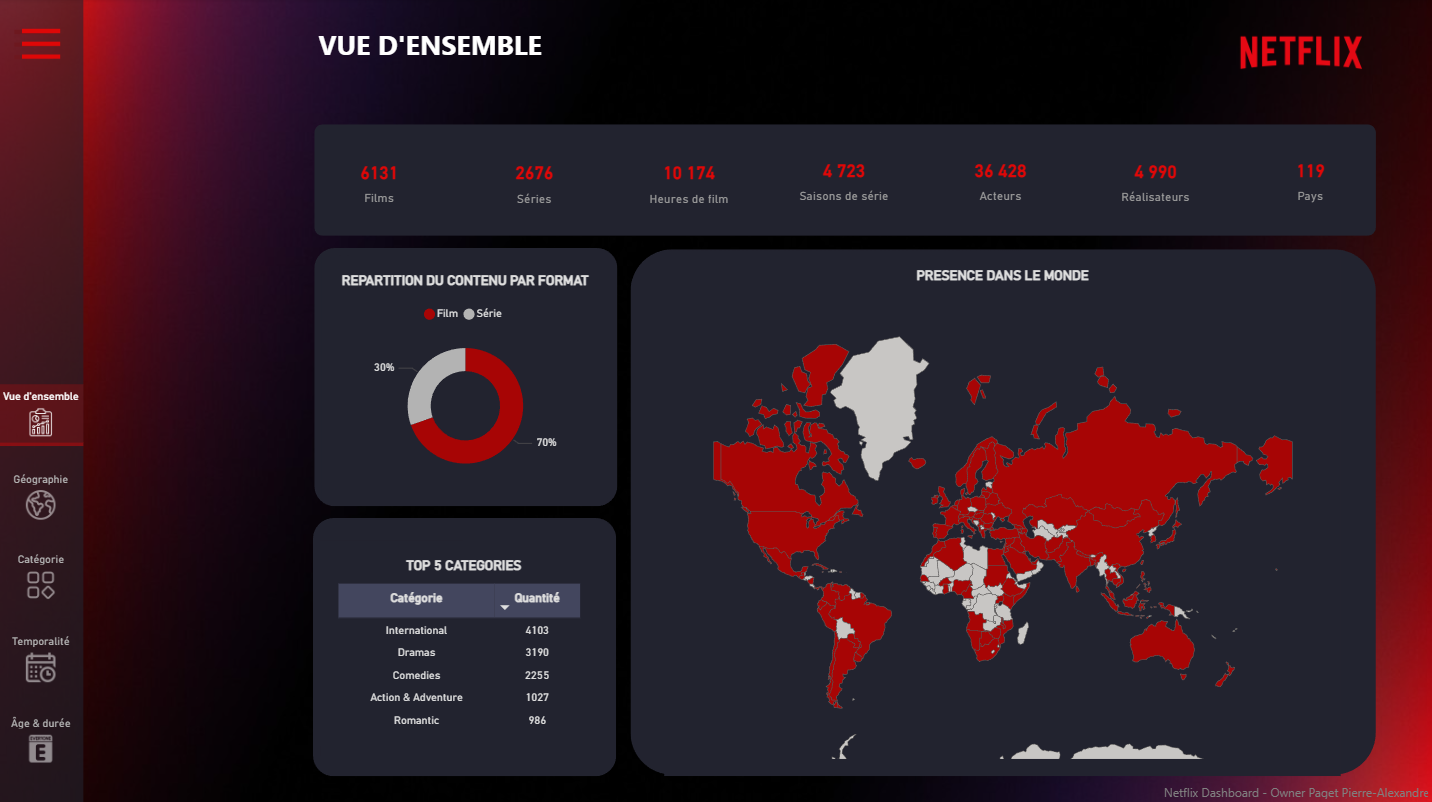

The dashboard page shown, as its layout file describes it:
{"tool":"powerbi","page":{"name":"Vue d'ensemble","canvas":[1280,720],"ordinal":0},"visuals":[{"type":"shape","title":"Forme - pages","box":[0,0,76,720.7],"z":0,"group":"g1"},{"type":"image","box":[8.9,16.8,45.2,49.7],"z":0},{"type":"card","title":"NOMBRE DE FLMS","fields":{"Values":["Mesures.sum_duration_for_series"]},"box":[696.1,121.6,115,79.4],"z":0,"group":"g4"},{"type":"card","title":"NOMBRE DE FLMS","fields":{"Values":["Mesures.durée_film"]},"box":[557.7,123.3,115,78.7],"z":0,"group":"g3"},{"type":"shape","box":[281.1,222.6,270,230],"z":0,"group":"g5"},{"type":"shape","box":[563.2,224.2,663.7,467.9],"z":0,"group":"g6"},{"type":"shape","box":[280.2,462.9,270,230],"z":0,"group":"g2"},{"type":"shape","box":[281.1,112.4,945.5,99.5],"z":1000},{"type":"shapeMap","title":"PRESENCE DANS LE MONDE","fields":{"Category":["Countries.country"]},"box":[593.7,225.1,602.8,467.9],"z":1000,"group":"g6"},{"type":"donutChart","title":"REPARTITION DU CONTENU PAR FORMAT","fields":{"Category":["Titles.type"],"Y":["CountNonNull(Titles.show_id)"]},"box":[288,229.5,255.4,216.8],"z":1000,"group":"g5"},{"type":"pageNavigator","box":[0,344.1,76.2,351],"z":1000,"group":"g1"},{"type":"tableEx","title":"TOP 5 CATEGORIES","fields":{"Values":["dim_categories.category","Mesures.nb_contenus"]},"box":[287.1,482.5,255.4,192.4],"z":1000,"group":"g2"},{"type":"group","id":"g1","title":"Groupe de page","box":[0,0,76.2,720.7],"z":2000,"group":"g7"},{"type":"image","title":"Image - menu","box":[15.2,15.7,45.7,50],"z":2000,"group":"g1"},{"type":"textbox","box":[1013.5,692.5,266.9,27.5],"z":3000},{"type":"textbox","box":[280.9,20,875.5,41.8],"z":4000},{"type":"card","title":"NOMBRE DE FLMS","fields":{"Values":["Mesures.nb_contenus"]},"box":[281.1,122.1,115.3,79.8],"z":5000},{"type":"card","title":"NOMBRE DE FLMS","fields":{"Values":["Mesures.nb_contenus"]},"box":[419.4,123.1,115.3,78.9],"z":6000},{"type":"group","id":"g2","title":"Groupe 2","box":[280.2,462.9,270,230],"z":7000},{"type":"group","id":"g3","title":"Groupe 2","box":[557.7,123.3,115.3,78.9],"z":8000},{"type":"group","id":"g4","title":"Groupe 2","box":[696.1,121.6,115.3,78.9],"z":9000},{"type":"card","title":"NOMBRE DE FLMS","fields":{"Values":["Mesures.nb_pays"]},"box":[1111,121.5,115.3,78.9],"z":10000},{"type":"group","id":"g5","title":"Groupe 2","box":[281.1,222.6,270,230],"z":11000},{"type":"group","id":"g6","title":"Groupe 2","box":[563.2,224.2,663.2,469.5],"z":12000},{"type":"card","title":"NOMBRE DE FLMS","fields":{"Values":["Mesures.Nb_Acteurs_Interactif"]},"box":[834.4,121.8,115.3,78.9],"z":13000},{"type":"card","title":"NOMBRE DE FLMS","fields":{"Values":["Mesures.Nb_Realisateurs_Interactif"]},"box":[972.7,121.9,115.3,78.9],"z":14000},{"type":"image","box":[1094.2,0,132.7,94.1],"z":15000},{"type":"group","id":"g7","title":"Groupe MENU","box":[0,0,229.2,720.7],"z":16000},{"type":"image","title":"Vue d''ensemble","box":[0,349.4,76.3,41.7],"z":17000},{"type":"image","title":"Géographie","box":[0,423,76.3,41.7],"z":18000},{"type":"image","title":"Catégorie","box":[0,494.8,76.3,41.7],"z":19000},{"type":"image","title":"Temporalité","box":[0,567.5,76.3,41.7],"z":20000},{"type":"image","title":"Âge & durée","box":[0,640.2,76.3,41.7],"z":21000}]}

Visuals, with their boxes in screenshot pixels (x1, y1, x2, y2), scaled from the page's 1280x720 canvas onto the 1432x802 screenshot:
"Forme - pages" shape: [x1=0, y1=0, x2=85, y2=801]
image: [x1=10, y1=19, x2=61, y2=74]
"NOMBRE DE FLMS" card: [x1=779, y1=135, x2=907, y2=224]
"NOMBRE DE FLMS" card: [x1=624, y1=137, x2=753, y2=225]
shape: [x1=314, y1=248, x2=617, y2=504]
shape: [x1=630, y1=250, x2=1373, y2=771]
shape: [x1=313, y1=516, x2=616, y2=772]
shape: [x1=314, y1=125, x2=1372, y2=236]
"PRESENCE DANS LE MONDE" shapeMap: [x1=664, y1=251, x2=1339, y2=772]
"REPARTITION DU CONTENU PAR FORMAT" donutChart: [x1=322, y1=256, x2=608, y2=497]
pageNavigator: [x1=0, y1=383, x2=85, y2=774]
"TOP 5 CATEGORIES" tableEx: [x1=321, y1=537, x2=607, y2=752]
"Groupe de page" group: [x1=0, y1=0, x2=85, y2=801]
"Image - menu" image: [x1=17, y1=17, x2=68, y2=73]
textbox: [x1=1134, y1=771, x2=1431, y2=801]
textbox: [x1=314, y1=22, x2=1294, y2=69]
"NOMBRE DE FLMS" card: [x1=314, y1=136, x2=443, y2=225]
"NOMBRE DE FLMS" card: [x1=469, y1=137, x2=598, y2=225]
"Groupe 2" group: [x1=313, y1=516, x2=616, y2=772]
"Groupe 2" group: [x1=624, y1=137, x2=753, y2=225]
"Groupe 2" group: [x1=779, y1=135, x2=908, y2=223]
"NOMBRE DE FLMS" card: [x1=1243, y1=135, x2=1372, y2=223]
"Groupe 2" group: [x1=314, y1=248, x2=617, y2=504]
"Groupe 2" group: [x1=630, y1=250, x2=1372, y2=773]
"NOMBRE DE FLMS" card: [x1=933, y1=136, x2=1062, y2=224]
"NOMBRE DE FLMS" card: [x1=1088, y1=136, x2=1217, y2=224]
image: [x1=1224, y1=0, x2=1373, y2=105]
"Groupe MENU" group: [x1=0, y1=0, x2=256, y2=801]
"Vue d''ensemble" image: [x1=0, y1=389, x2=85, y2=436]
"Géographie" image: [x1=0, y1=471, x2=85, y2=518]
"Catégorie" image: [x1=0, y1=551, x2=85, y2=598]
"Temporalité" image: [x1=0, y1=632, x2=85, y2=679]
"Âge & durée" image: [x1=0, y1=713, x2=85, y2=760]
